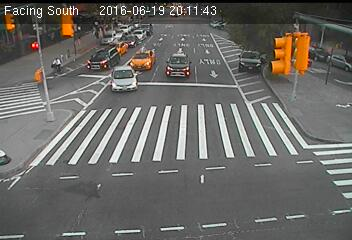neg: (322, 66, 337, 86), (290, 82, 304, 100), (69, 34, 83, 52)
pos: (48, 54, 64, 75)
